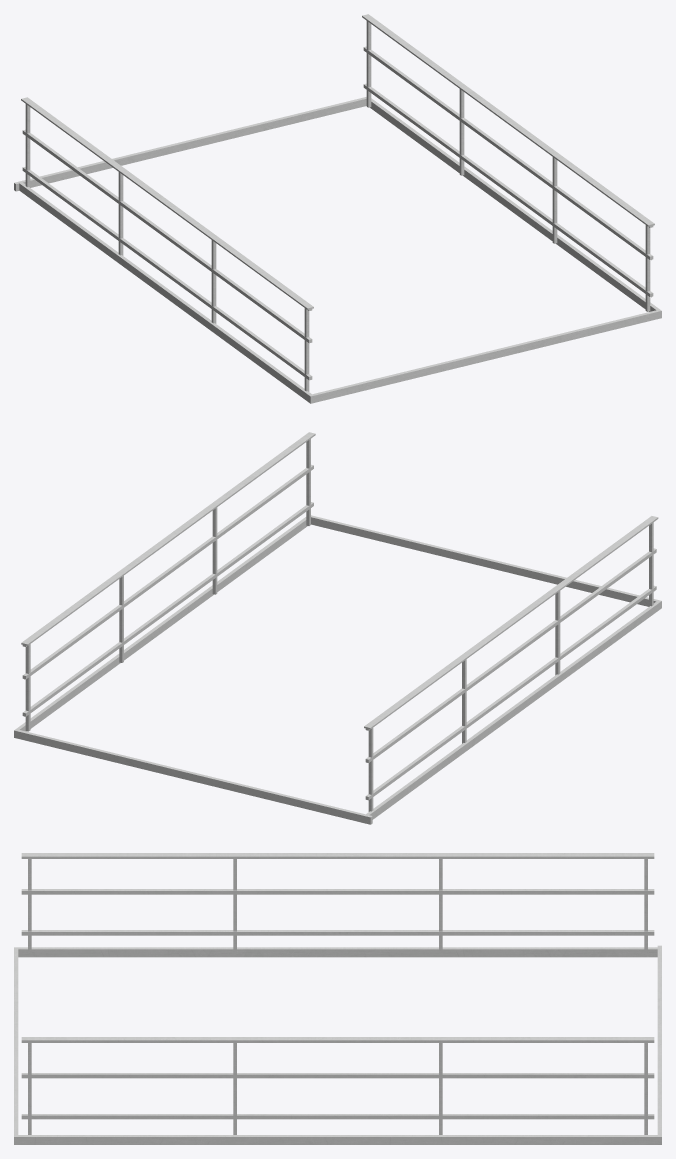
File: platform.obj
3 renders of one model, top to bottom at view 1: azimuth 30°, elevation 25°; view 2: azimuth 150°, elevation 25°; view 3: azimuth 270°, elevation 25°, orthographic. The views are drawn at different scales.
Parts seen in each view (by area): view 1: platform; view 2: platform; view 3: platform.
Part boxes in pixels (x1,y1,x2,y2): platform: (14,14,661,403); platform: (14,432,661,824); platform: (14,853,661,1144).
Bounding box in the file's own units: 10.2 × 2.55 × 14.6.
2 materials, 2 textured.
